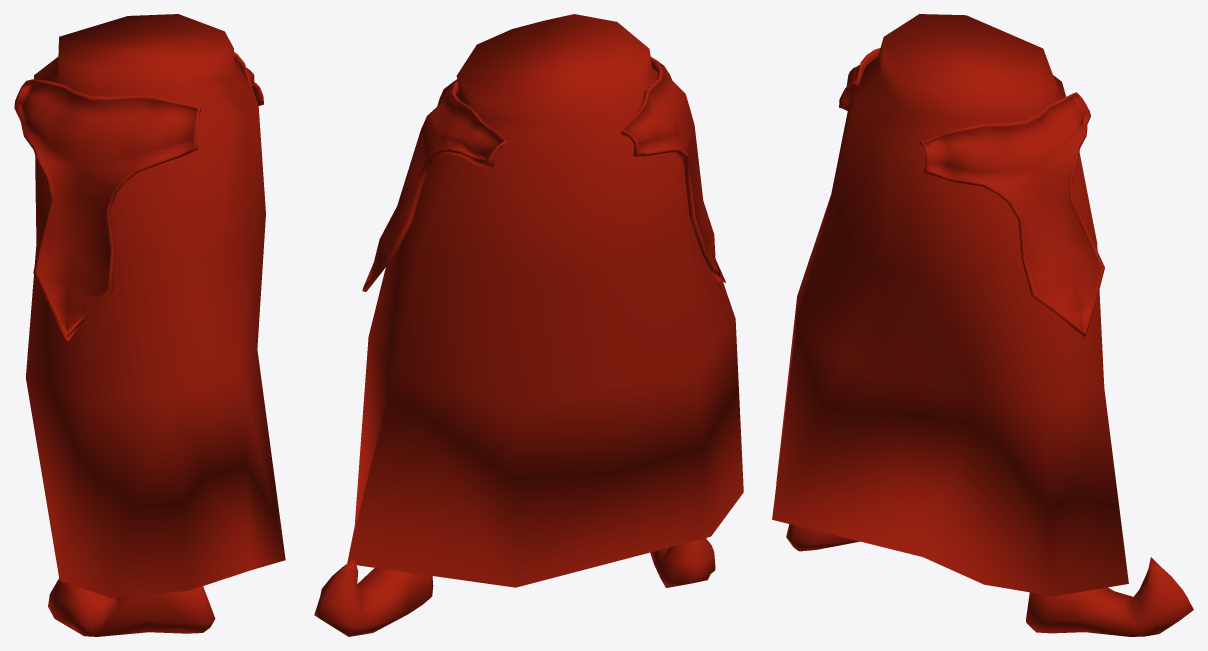
The model's file is bot_000087.obj.
3 views of the same model, side by side, from view 1: azimuth 30°, elevation 25°; view 2: azimuth 150°, elevation 25°; view 3: azimuth 270°, elevation 25° (orthographic). The views are drawn at different scales.
Visible parts, largest first — view 1: LowPoly_Warlock.004_Plane.004; view 2: LowPoly_Warlock.004_Plane.004; view 3: LowPoly_Warlock.004_Plane.004.
Part boxes in pixels (box(x1,y1,x2,y2)): LowPoly_Warlock.004_Plane.004: box(14, 14, 285, 636); LowPoly_Warlock.004_Plane.004: box(314, 14, 743, 636); LowPoly_Warlock.004_Plane.004: box(772, 14, 1193, 636).
Bounding box in the file's own units: 0.6124 × 1.12 × 0.7977.
